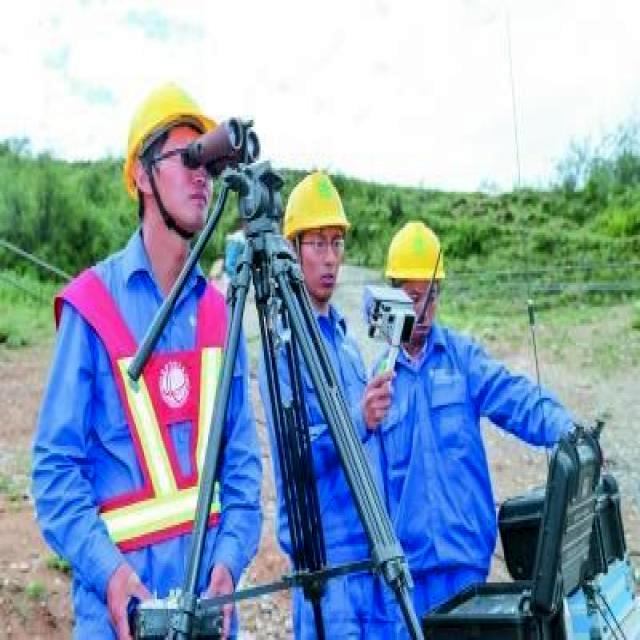hard_hat: (123, 84, 216, 197), (285, 170, 349, 237), (386, 221, 443, 278)
person: (34, 84, 262, 639), (355, 223, 571, 614), (258, 173, 425, 638)
